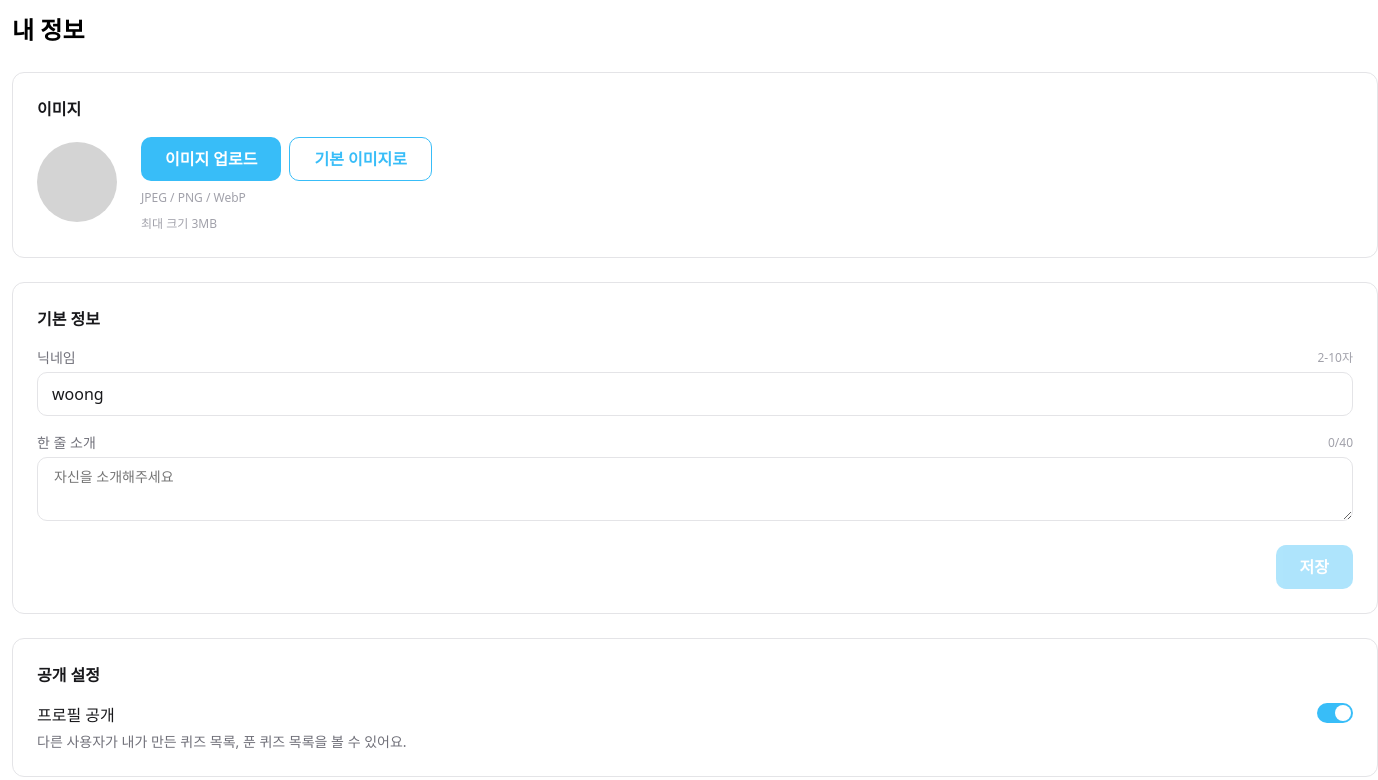
Test: ProfileInfo › bio 카운터 & 최대 길이 제한 › bio 변경 시 카운터가 업데이트된다
Type "hello" into the text box with placeholder "자신을 소개해주세요" at (695, 489), box left=37, top=457, right=1353, bottom=521
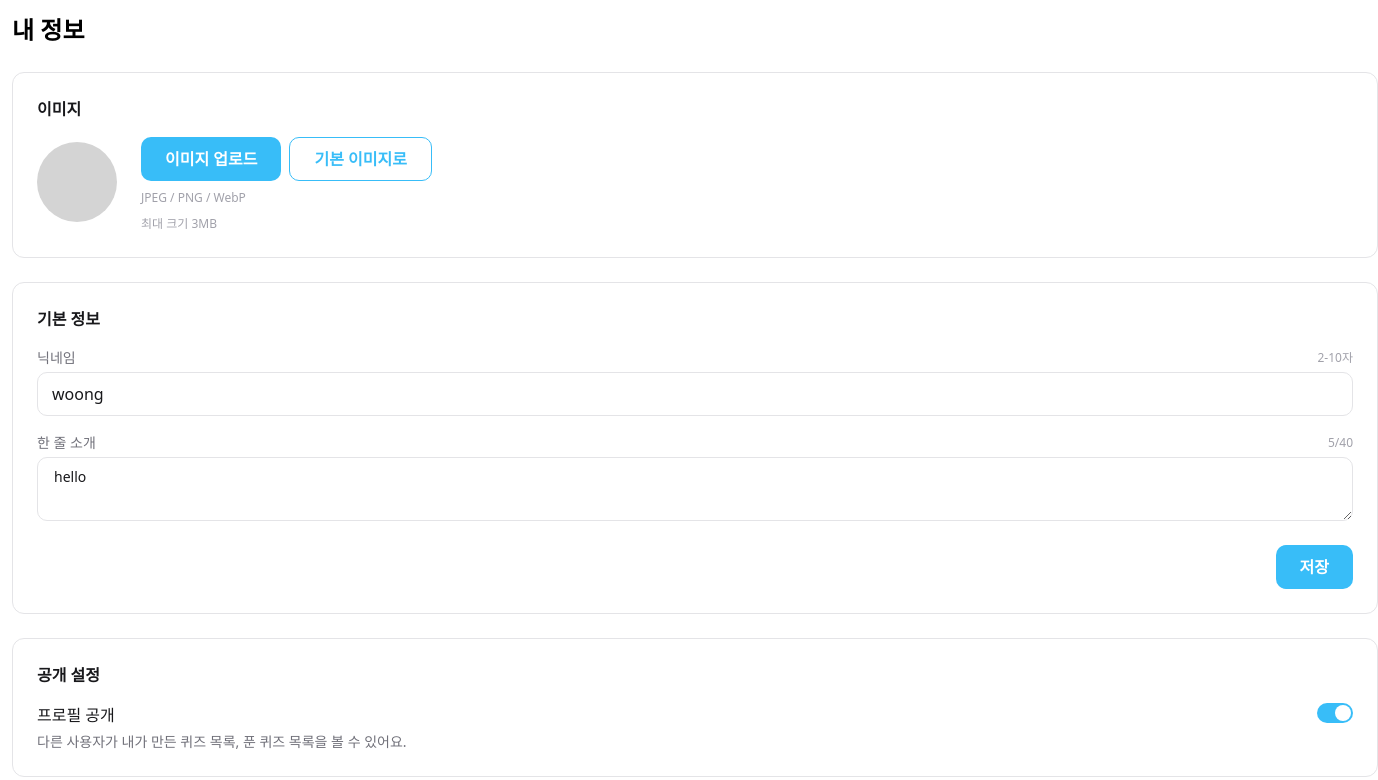
Now the text "5/40" is shown, box left=1328, top=434, right=1353, bottom=452
